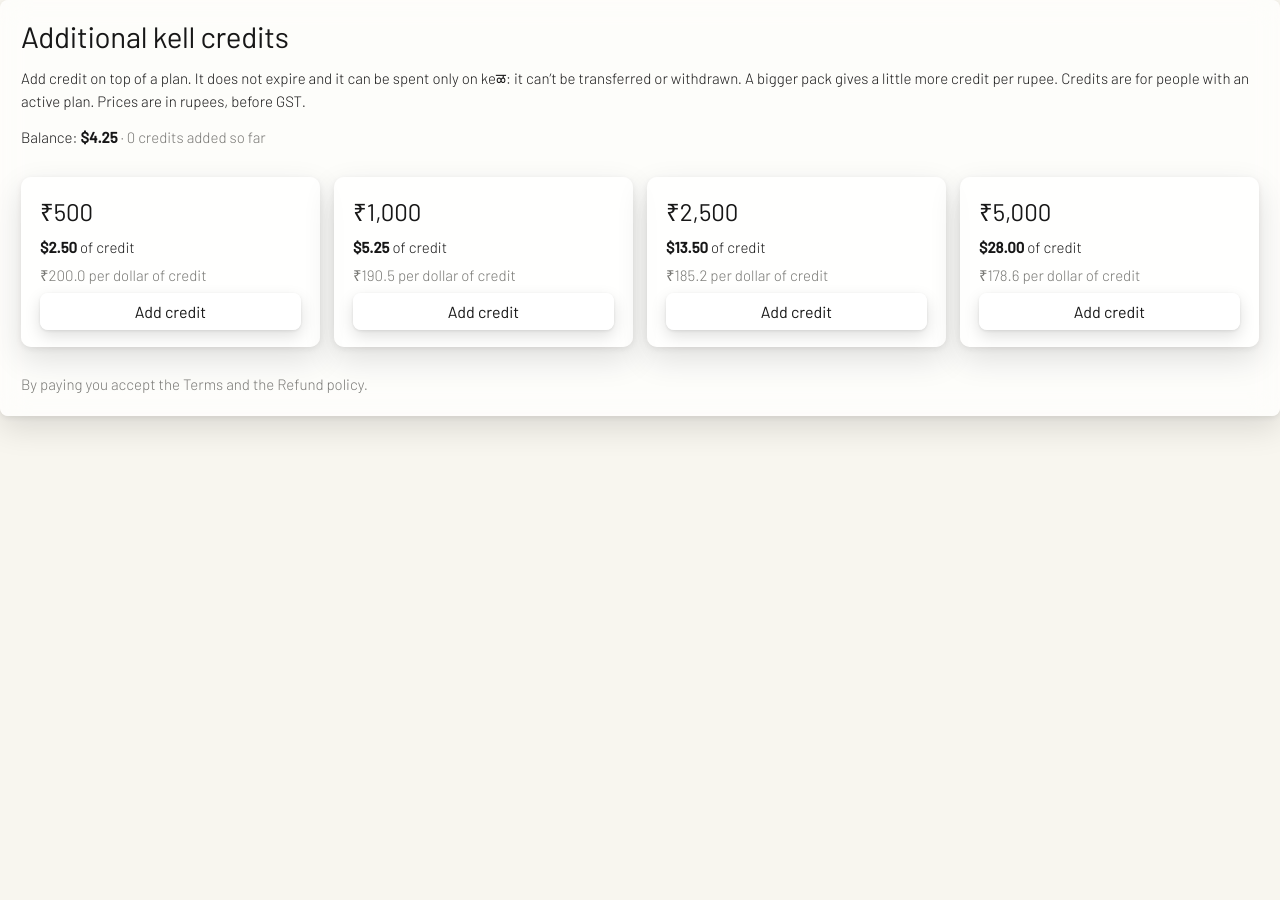
buying a pack › billing switched off at order time returns to the 'not switched on' state
Step 1. Click the button "Add credit" below "200.0" → [170, 311], box [40,293,301,330]
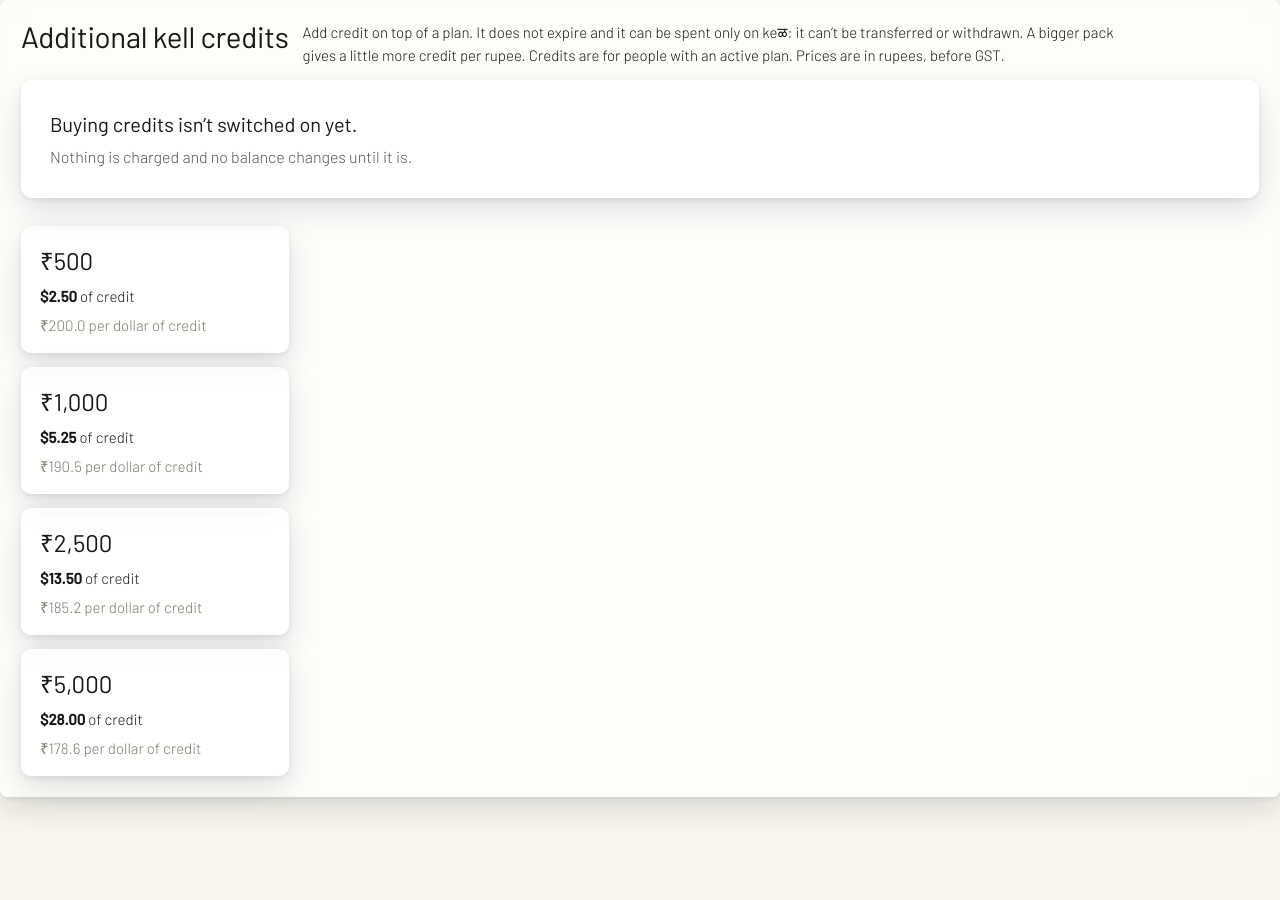
Check: the text "isn’t switched on yet" is shown, box [50,112,357,136]
